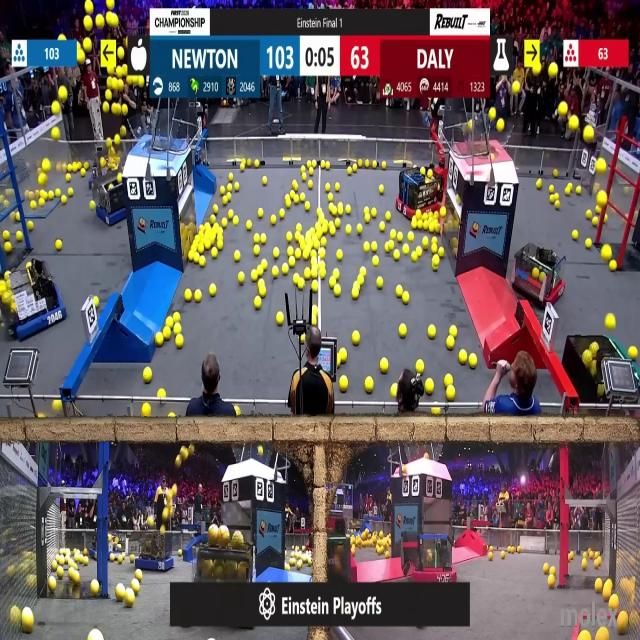ball_airborne: (584, 126, 596, 144), (558, 102, 568, 117), (596, 160, 606, 175), (597, 190, 607, 205), (569, 115, 579, 130), (86, 16, 94, 32), (83, 16, 92, 30), (549, 64, 558, 78), (108, 12, 117, 26), (60, 88, 69, 102), (76, 52, 85, 66), (85, 1, 95, 13), (96, 14, 105, 27), (83, 38, 91, 52), (532, 62, 540, 76), (54, 102, 62, 115), (51, 128, 59, 141), (38, 173, 46, 186), (42, 160, 50, 173), (497, 117, 504, 131), (514, 80, 521, 94), (110, 103, 118, 115), (180, 447, 188, 459), (111, 77, 118, 90), (103, 102, 110, 114), (116, 47, 123, 59), (164, 509, 170, 523), (175, 456, 182, 468), (107, 0, 115, 10), (172, 485, 178, 498), (116, 79, 123, 90), (106, 90, 112, 102), (121, 104, 127, 116), (490, 108, 496, 120), (148, 517, 154, 529), (120, 64, 126, 76), (114, 136, 120, 146), (108, 76, 113, 88), (56, 129, 61, 141), (102, 102, 108, 112), (100, 158, 106, 168), (120, 127, 125, 138), (108, 137, 113, 148), (121, 49, 126, 60), (594, 183, 600, 192), (102, 39, 108, 47), (258, 446, 262, 456), (162, 526, 166, 534)
ball_ground: (22, 610, 35, 634), (604, 314, 614, 329), (126, 592, 136, 607), (92, 581, 101, 597), (115, 586, 124, 602), (447, 386, 456, 401), (425, 379, 434, 394), (628, 347, 638, 360), (597, 628, 608, 639), (364, 378, 372, 393), (48, 578, 56, 593), (610, 595, 618, 609), (468, 354, 476, 368), (352, 332, 360, 346), (144, 367, 152, 381), (473, 354, 480, 370), (460, 350, 468, 364), (390, 384, 398, 398), (341, 378, 349, 392), (142, 405, 150, 418), (398, 324, 406, 337), (155, 335, 163, 348), (381, 358, 388, 372), (175, 337, 183, 349), (72, 570, 80, 582), (416, 360, 424, 372), (448, 338, 456, 350), (184, 288, 192, 300), (56, 402, 64, 414), (428, 325, 435, 338), (257, 279, 264, 292), (389, 382, 396, 395), (582, 631, 592, 640), (312, 281, 320, 292), (446, 375, 454, 386), (194, 289, 201, 301), (609, 261, 616, 273), (254, 298, 261, 310), (133, 582, 140, 594), (431, 220, 438, 232), (422, 238, 429, 250), (582, 558, 589, 570), (277, 313, 284, 325), (318, 270, 326, 280), (159, 388, 167, 398), (318, 248, 326, 258), (174, 323, 182, 333), (378, 277, 384, 290), (596, 580, 602, 593), (305, 269, 312, 280), (238, 273, 245, 284), (235, 250, 242, 261), (352, 288, 359, 299), (604, 581, 611, 592), (356, 223, 363, 234), (336, 284, 342, 296), (311, 270, 319, 279), (402, 291, 408, 303), (210, 284, 216, 296), (396, 285, 402, 297), (136, 568, 142, 580), (166, 317, 174, 326), (287, 247, 294, 257), (432, 408, 439, 418), (338, 206, 345, 216), (216, 240, 223, 250), (282, 266, 289, 276), (293, 249, 300, 259), (259, 283, 264, 297), (288, 256, 295, 266), (396, 233, 403, 243), (329, 204, 336, 214), (328, 225, 335, 235), (187, 251, 194, 261), (386, 242, 393, 252), (253, 245, 259, 256), (55, 240, 61, 251), (212, 248, 218, 259), (451, 325, 457, 336), (338, 249, 344, 260), (273, 267, 279, 278), (192, 252, 198, 263), (253, 234, 259, 245), (311, 249, 318, 258), (246, 219, 252, 229), (200, 256, 206, 266), (274, 248, 280, 258), (298, 280, 304, 290), (390, 231, 396, 241), (16, 232, 22, 242), (370, 208, 376, 218), (402, 244, 408, 254), (257, 208, 263, 218), (586, 239, 592, 249), (346, 205, 352, 215), (226, 182, 232, 192), (227, 209, 233, 219), (439, 247, 445, 257), (335, 270, 341, 280), (4, 232, 10, 242), (336, 218, 342, 228), (59, 566, 64, 578), (393, 250, 399, 260), (29, 220, 35, 230), (363, 242, 369, 252), (304, 250, 310, 260), (314, 239, 320, 249), (384, 242, 390, 252), (322, 224, 328, 234), (358, 276, 364, 286), (312, 306, 318, 316), (550, 566, 557, 574), (363, 215, 370, 223), (347, 223, 352, 234), (252, 271, 257, 282), (371, 242, 376, 253), (409, 233, 415, 242), (233, 216, 239, 225), (286, 234, 292, 243), (442, 208, 448, 217), (295, 223, 301, 232), (257, 269, 263, 278), (174, 313, 180, 322), (432, 255, 438, 264), (542, 564, 548, 573), (199, 244, 205, 253), (264, 176, 270, 185), (295, 561, 301, 570), (47, 190, 53, 199), (381, 221, 386, 231), (336, 182, 341, 192), (386, 211, 391, 221), (423, 220, 428, 230), (595, 558, 600, 568), (568, 552, 573, 562), (328, 278, 333, 288), (299, 192, 304, 202), (293, 235, 300, 242), (271, 216, 277, 224), (431, 245, 437, 253), (385, 552, 391, 560), (38, 200, 44, 208), (220, 186, 226, 194), (210, 215, 216, 223), (416, 247, 422, 255), (246, 161, 252, 169), (263, 262, 269, 270), (311, 318, 317, 326), (321, 238, 326, 247), (380, 184, 385, 193), (348, 167, 353, 176), (536, 179, 541, 188), (83, 556, 88, 565), (31, 201, 36, 210), (344, 351, 348, 362), (582, 558, 586, 569), (306, 202, 310, 212), (328, 192, 333, 200), (309, 180, 314, 188), (280, 209, 284, 219), (413, 252, 418, 260), (371, 162, 376, 170), (364, 207, 369, 215), (265, 260, 270, 268), (237, 409, 241, 418), (236, 182, 240, 191), (489, 553, 493, 562), (170, 413, 176, 419), (413, 219, 417, 228), (131, 556, 136, 563), (352, 166, 357, 173), (556, 202, 560, 210), (360, 268, 364, 276), (432, 237, 436, 245), (358, 225, 362, 232), (294, 197, 298, 204), (374, 259, 377, 266), (179, 550, 182, 557)
goal: (460, 119, 514, 160), (128, 118, 187, 152)
robot_blue: (0, 256, 66, 341), (89, 167, 128, 226), (140, 529, 174, 571)
robot_red: (402, 523, 456, 584), (514, 247, 564, 308), (398, 165, 444, 214)
